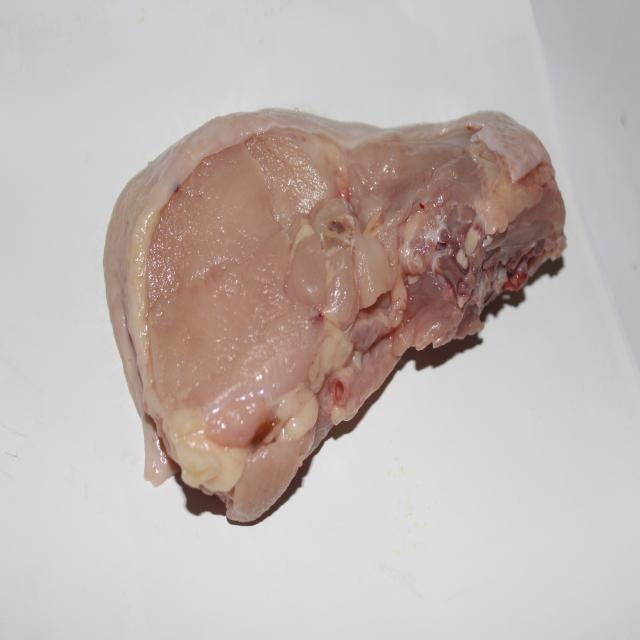chicken: (107, 112, 567, 524)
